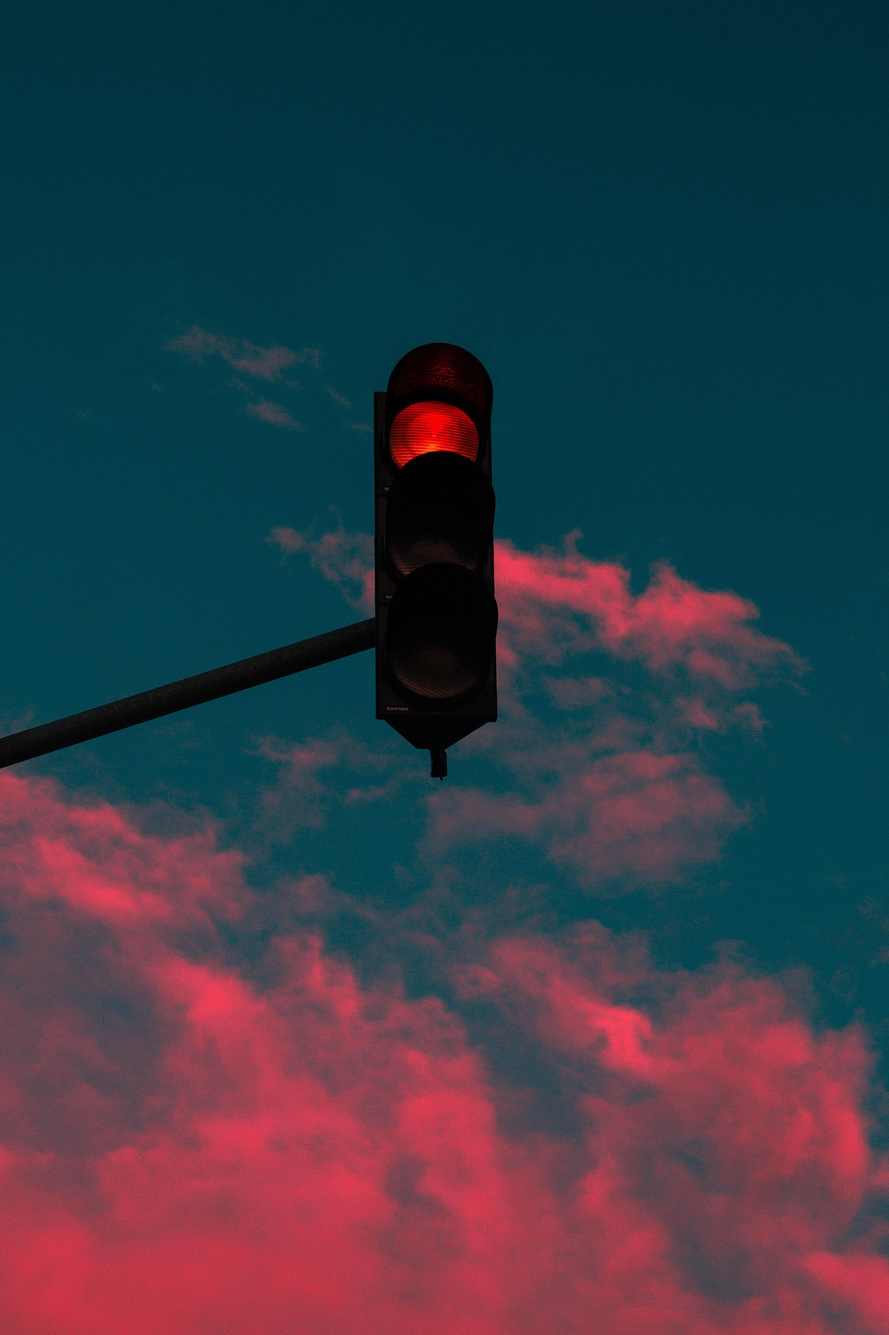red: (345, 342, 543, 742)
